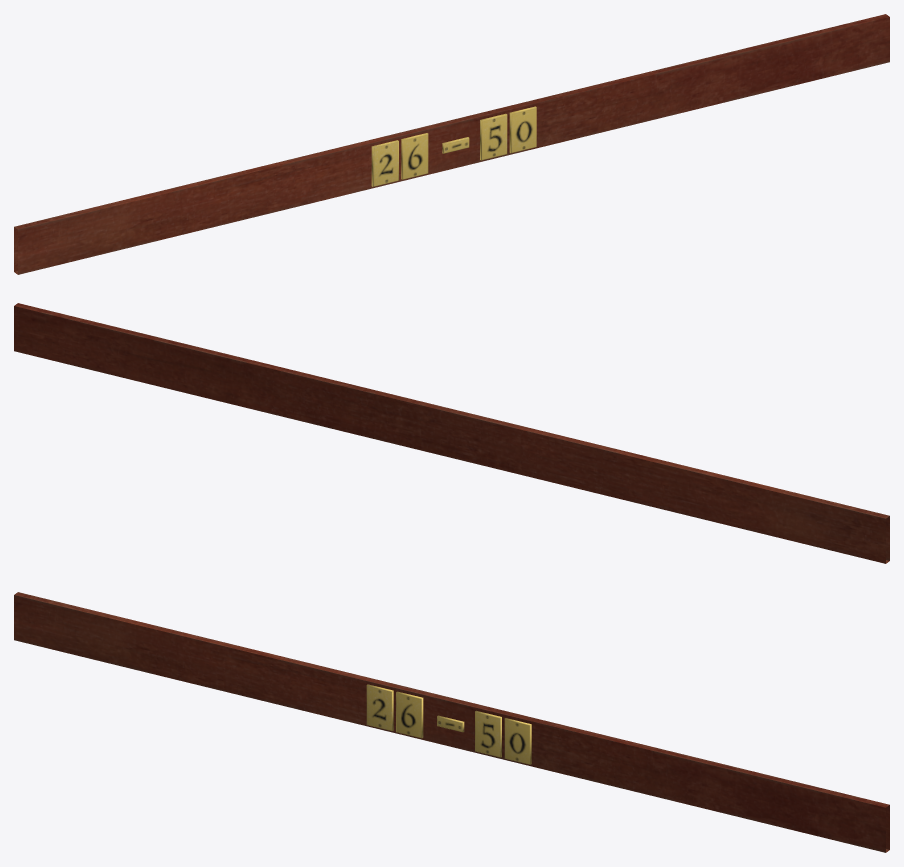
Rendered from Garderobe01_Num26-50.FBX.
3 views of the same model, one above another, from view 1: azimuth 30°, elevation 25°; view 2: azimuth 150°, elevation 25°; view 3: azimuth 330°, elevation 25° (orthographic).
Parts seen in each view (by area): view 1: Garderobe01_Num26-50; view 2: Garderobe01_Num26-50; view 3: Garderobe01_Num26-50.
Boxes of the visible parts, bbox=[...] form: Garderobe01_Num26-50: bbox=[14, 14, 889, 274]; Garderobe01_Num26-50: bbox=[14, 303, 889, 563]; Garderobe01_Num26-50: bbox=[14, 592, 889, 852].
Size of the model in its own units: 2000 by 99.1 by 21.44.
